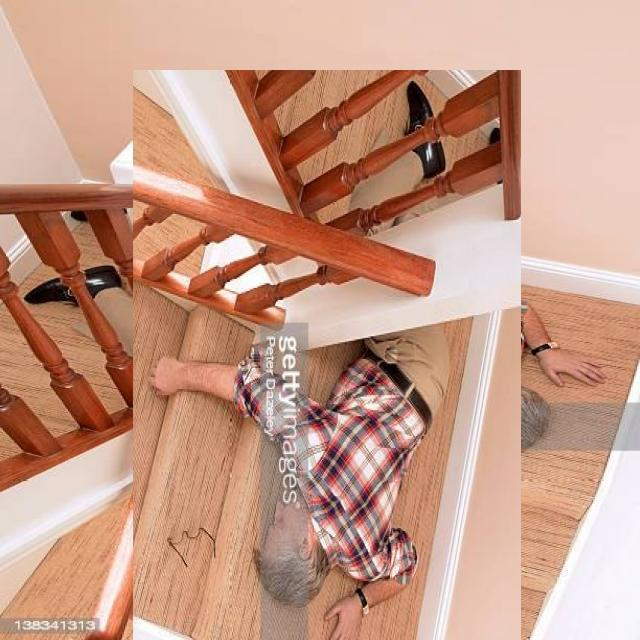Fall: (190, 280, 508, 622)
